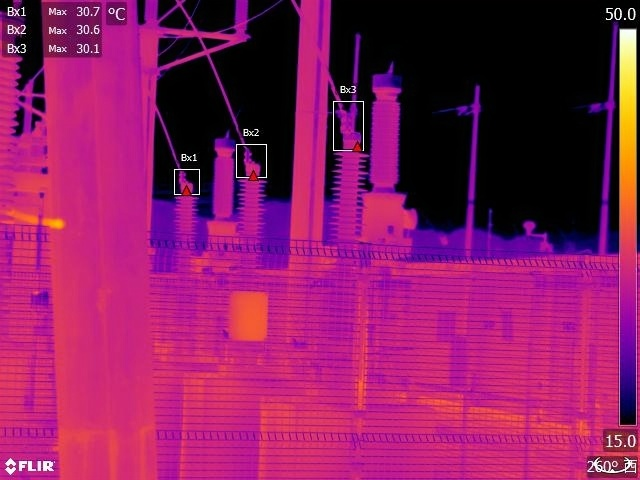lightning arrester: (327, 97, 362, 264), (233, 149, 274, 269), (168, 164, 200, 274)
potential transformer: (363, 58, 416, 253), (205, 128, 238, 263)
